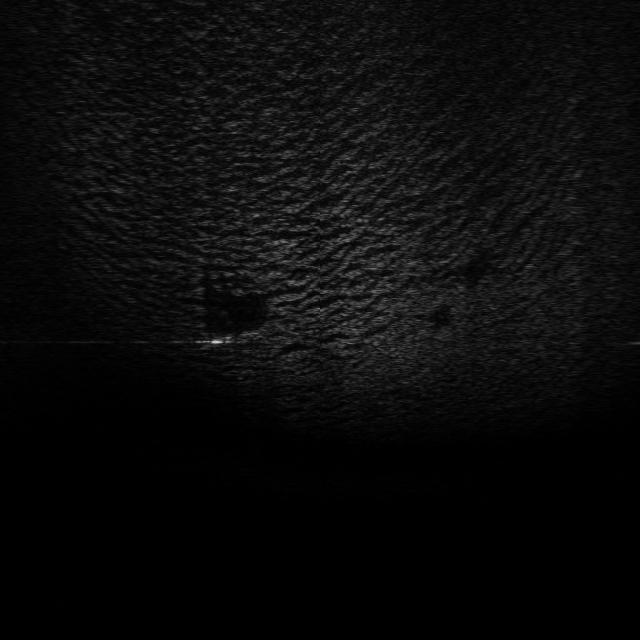plane: (196, 324, 270, 350)
